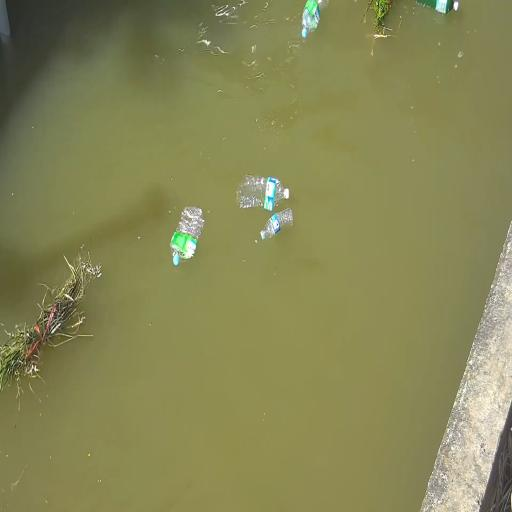plastic: (165, 204, 204, 275), (232, 168, 291, 214), (256, 205, 296, 245), (298, 0, 332, 36), (406, 0, 460, 12)
twig: (0, 263, 84, 389), (361, 0, 397, 48)
